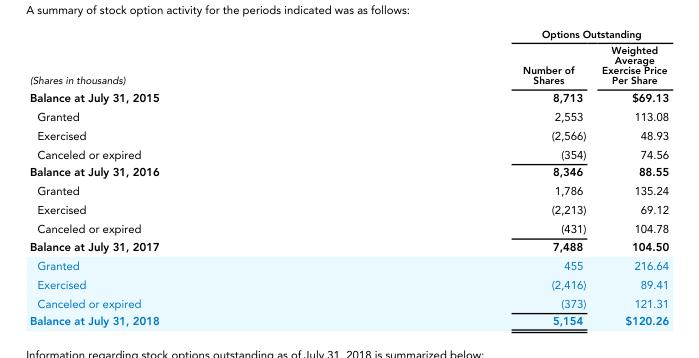table: (28, 29, 668, 327)
table column: (28, 29, 340, 327), (340, 29, 593, 327), (593, 29, 668, 327)
table column header: (28, 29, 668, 89)
table row: (28, 42, 668, 89), (28, 107, 668, 126), (28, 126, 668, 145), (28, 181, 668, 200), (28, 200, 668, 219), (28, 219, 668, 238), (28, 256, 668, 275), (28, 275, 668, 294), (28, 89, 668, 107), (28, 145, 668, 163), (28, 163, 668, 181), (28, 238, 668, 256), (28, 294, 668, 312), (28, 312, 668, 327), (28, 29, 668, 42)
table spanning cell: (28, 29, 340, 89), (340, 29, 668, 42)
